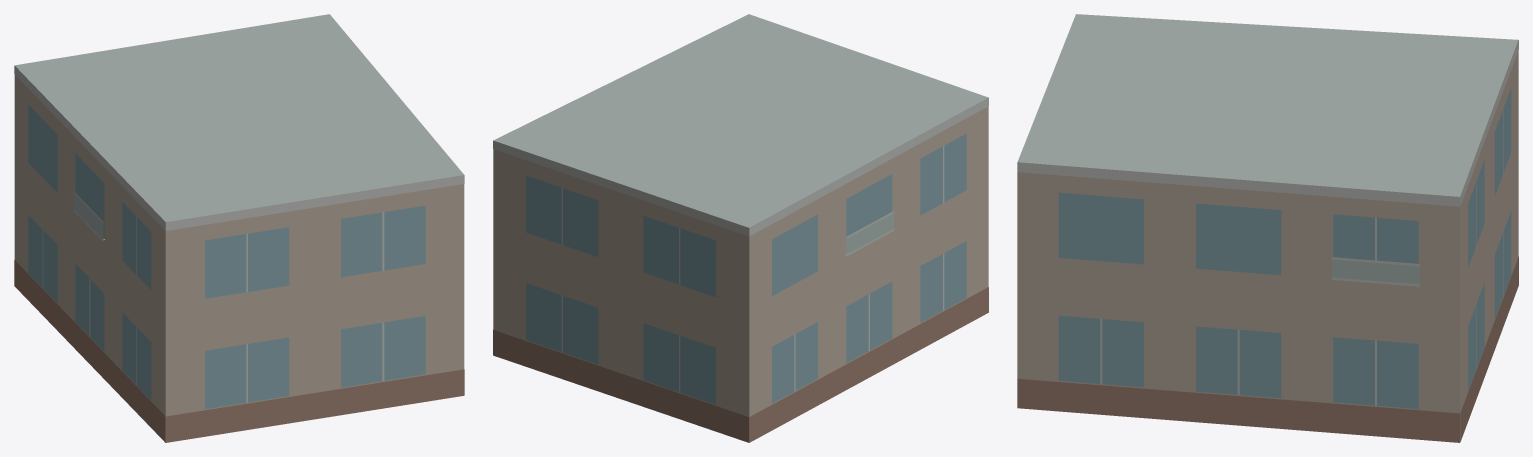
Rendered from survey-upis-32769477.glb.
3 renders of one model, left to right at view 1: azimuth 30°, elevation 25°; view 2: azimuth 150°, elevation 25°; view 3: azimuth 270°, elevation 25°, orthographic. The views are drawn at different scales.
Visible parts, largest first — view 1: survey-upis-32769477.tmp; view 2: survey-upis-32769477.tmp; view 3: survey-upis-32769477.tmp.
Part boxes in pixels (x1,y1,x2,y2): survey-upis-32769477.tmp: [14, 14, 464, 442]; survey-upis-32769477.tmp: [493, 14, 988, 442]; survey-upis-32769477.tmp: [1017, 14, 1518, 442].
Bounding box in the file's own units: 9.74 × 6.1 × 11.28.
